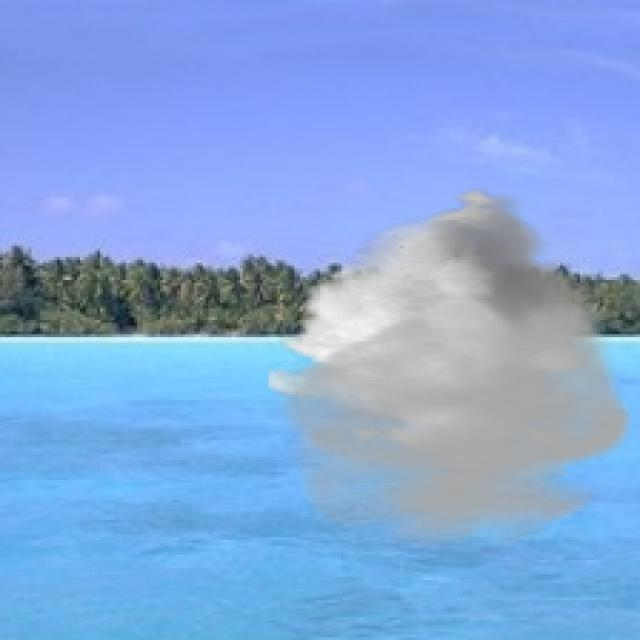smoke: (269, 186, 637, 548)
